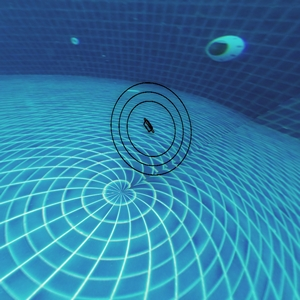circle: (103, 69, 199, 179)
submarine: (143, 121, 152, 129)
